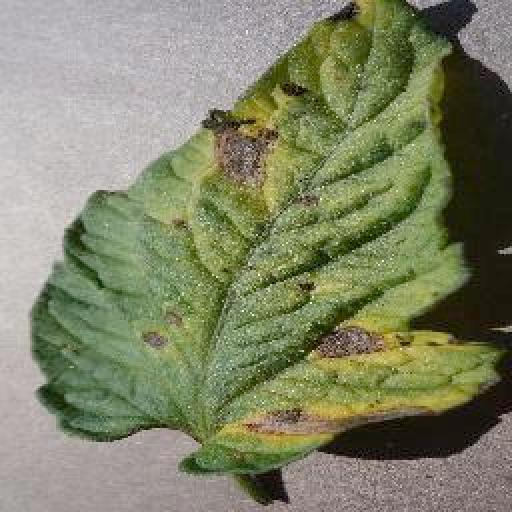disease_tomato: (26, 0, 506, 476)
